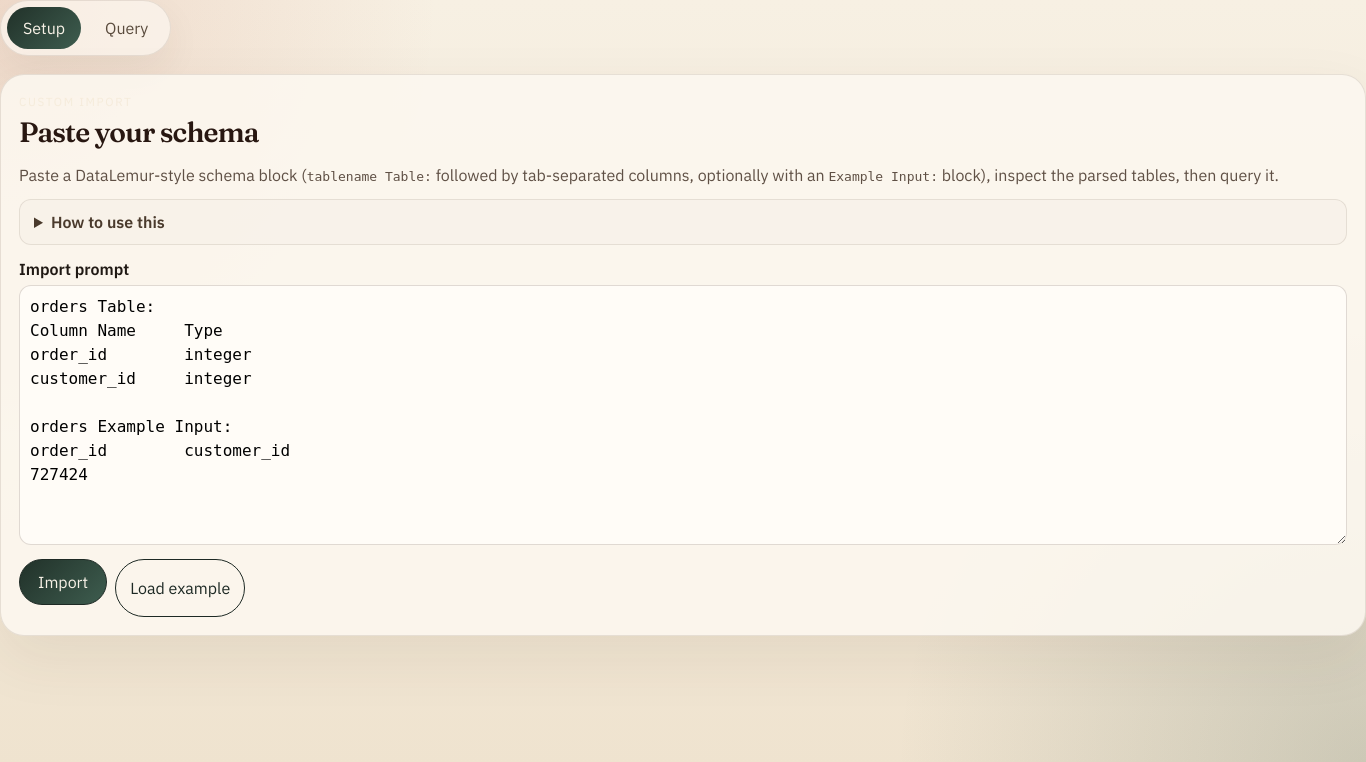
SqlPlaygroundApp › shows a parser warning for row width mismatch after import
Click the button "Import".
click(63, 582)  # box [19, 558, 107, 604]
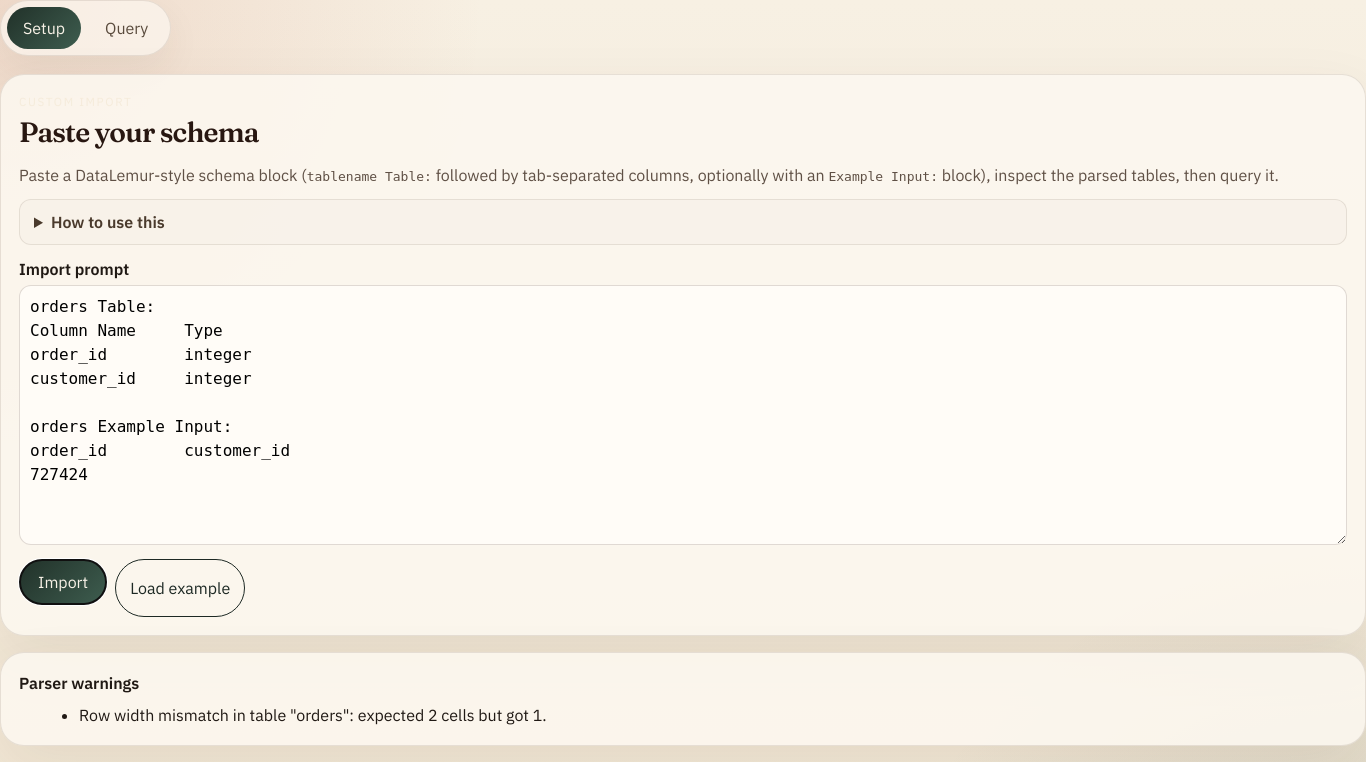
Expected: the list item "Row width mismatch in table \"orders\"" is shown, [79, 704, 547, 724]
